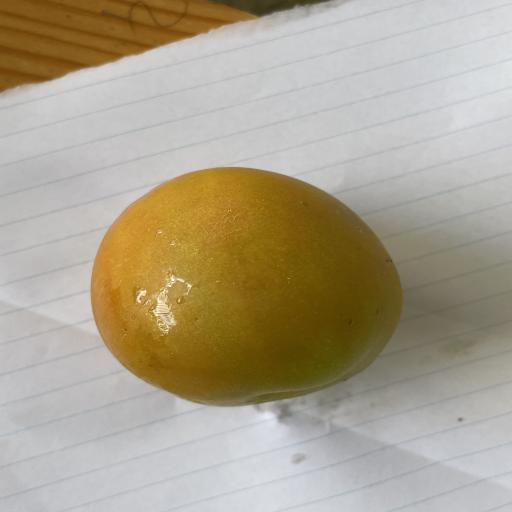unripe: (91, 167, 401, 406)
